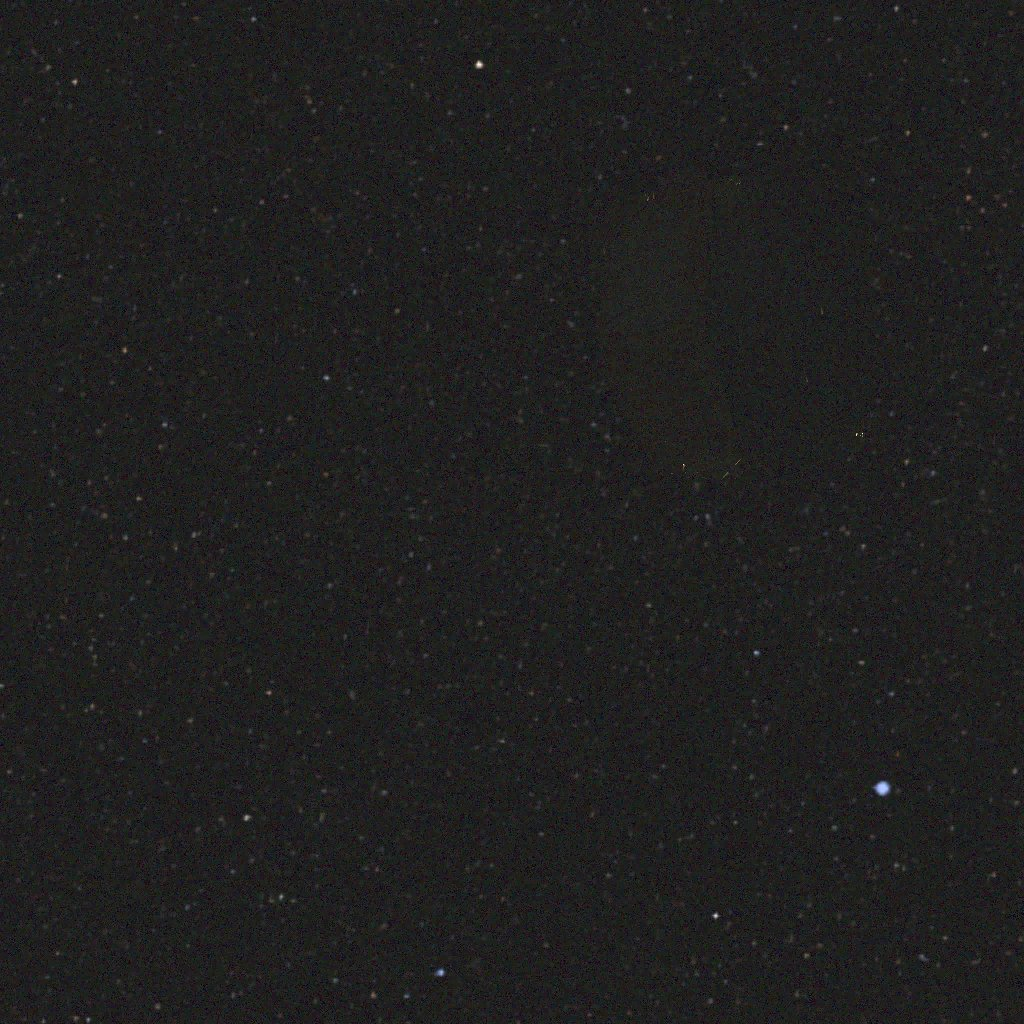lisa_pathfinder: (582, 145, 880, 496)
